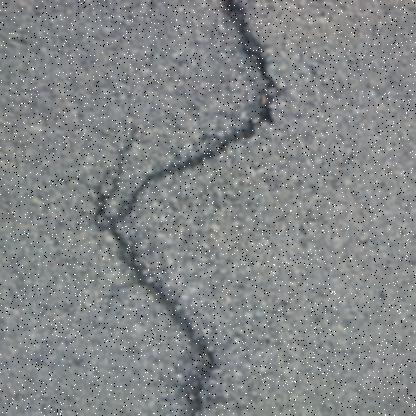Cracks: (80, 0, 291, 415)
